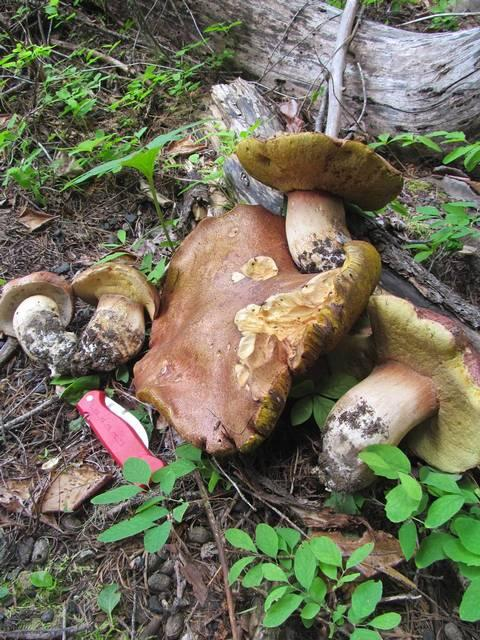Edible Mushroom: (130, 202, 382, 458), (316, 292, 479, 494), (234, 129, 404, 273), (68, 260, 159, 374), (0, 269, 75, 370)
